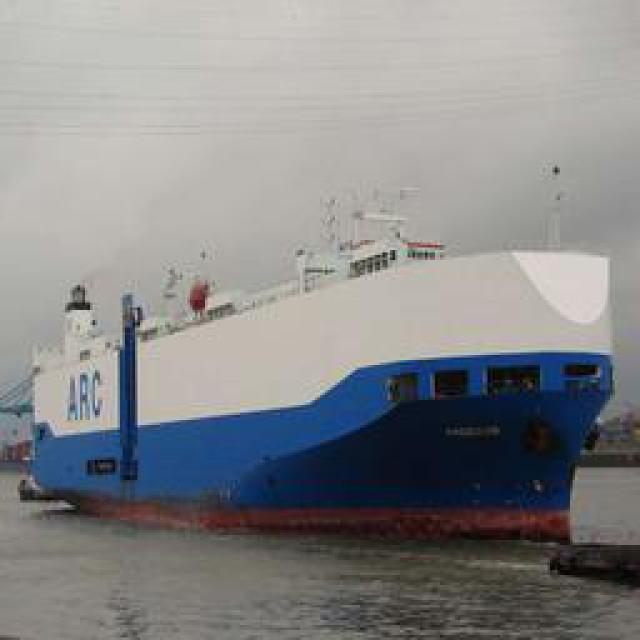Ship: (17, 156, 640, 558)
